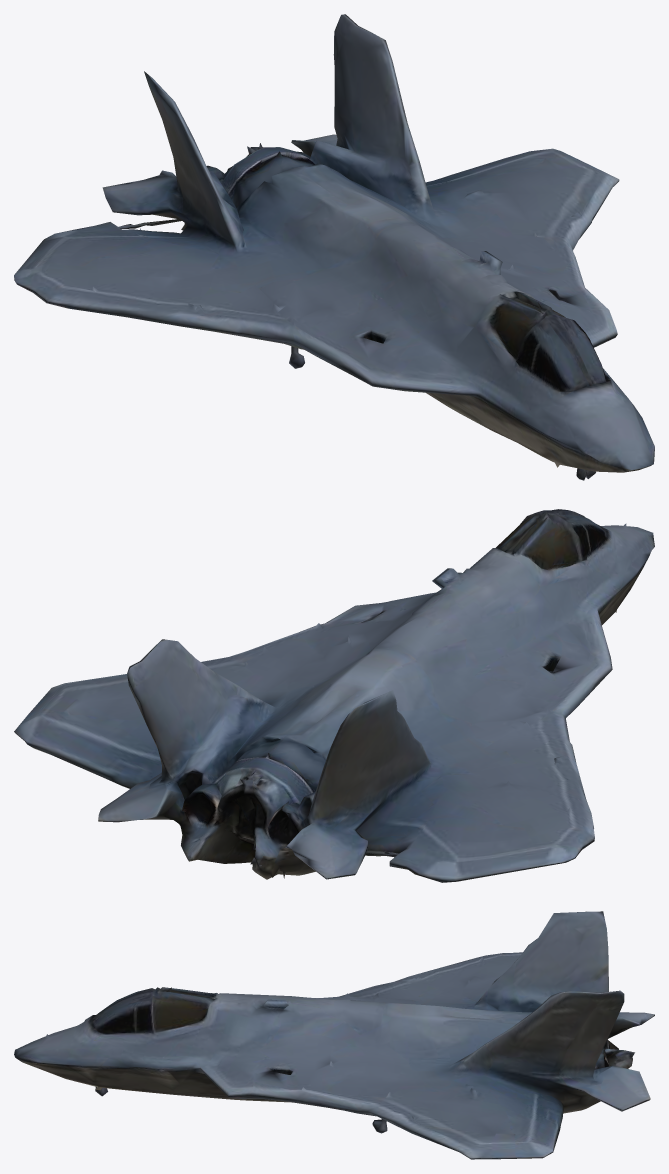
The model's file is bop.glb.
3 views of the same model, one above another, from view 1: azimuth 30°, elevation 25°; view 2: azimuth 150°, elevation 25°; view 3: azimuth 270°, elevation 25° (orthographic). The views are drawn at different scales.
Parts seen in each view (by area): view 1: tripo_node_34b5d1b4-1337-4d37-ba50-20091cfe2ae1; view 2: tripo_node_34b5d1b4-1337-4d37-ba50-20091cfe2ae1; view 3: tripo_node_34b5d1b4-1337-4d37-ba50-20091cfe2ae1.
Part boxes in pixels (box(x1,y1,x2,y2)): tripo_node_34b5d1b4-1337-4d37-ba50-20091cfe2ae1: box(14, 14, 654, 480); tripo_node_34b5d1b4-1337-4d37-ba50-20091cfe2ae1: box(14, 509, 654, 882); tripo_node_34b5d1b4-1337-4d37-ba50-20091cfe2ae1: box(14, 911, 654, 1159).
Size of the model in its own units: 0.7588 by 0.2615 by 1.
Materials: 1 (1 with a texture image).
